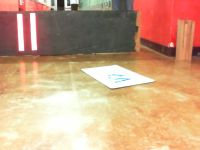switch: (29, 13, 38, 51), (16, 14, 24, 52)
